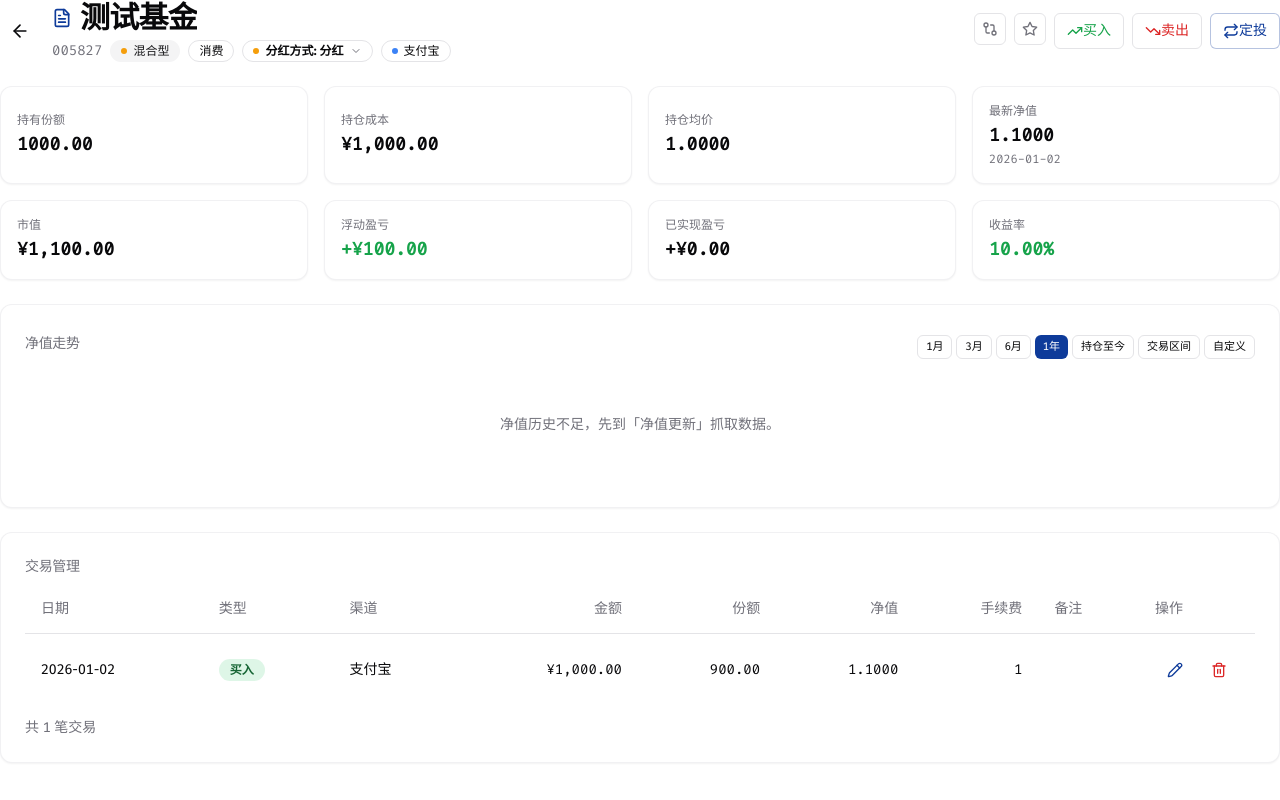
FundDetail › 删除进行中确认按钮禁用，重复点击不会发起第二次删除
Click the button titled "删除".
click(1219, 670)  # box top-left (1199, 650), bottom-right (1239, 690)
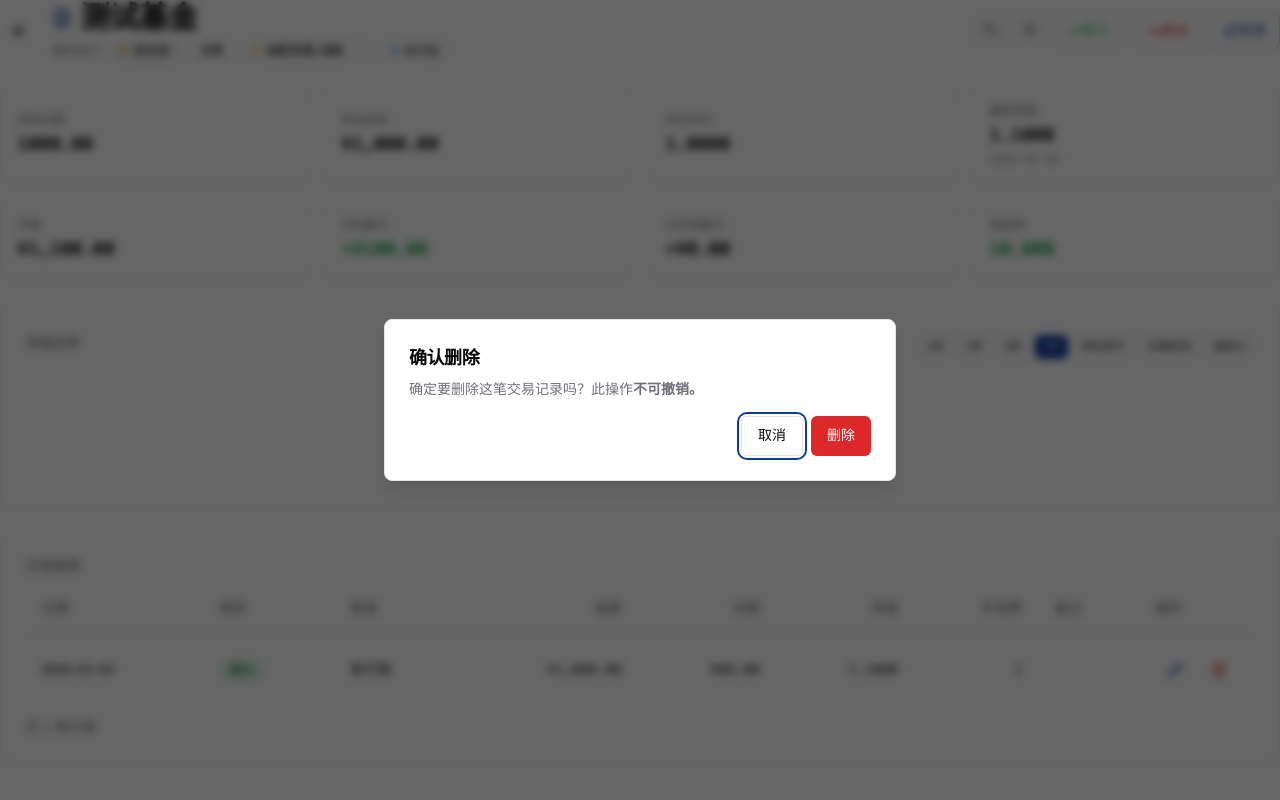
Click the button "删除".
click(841, 436)  # box top-left (811, 416), bottom-right (871, 456)
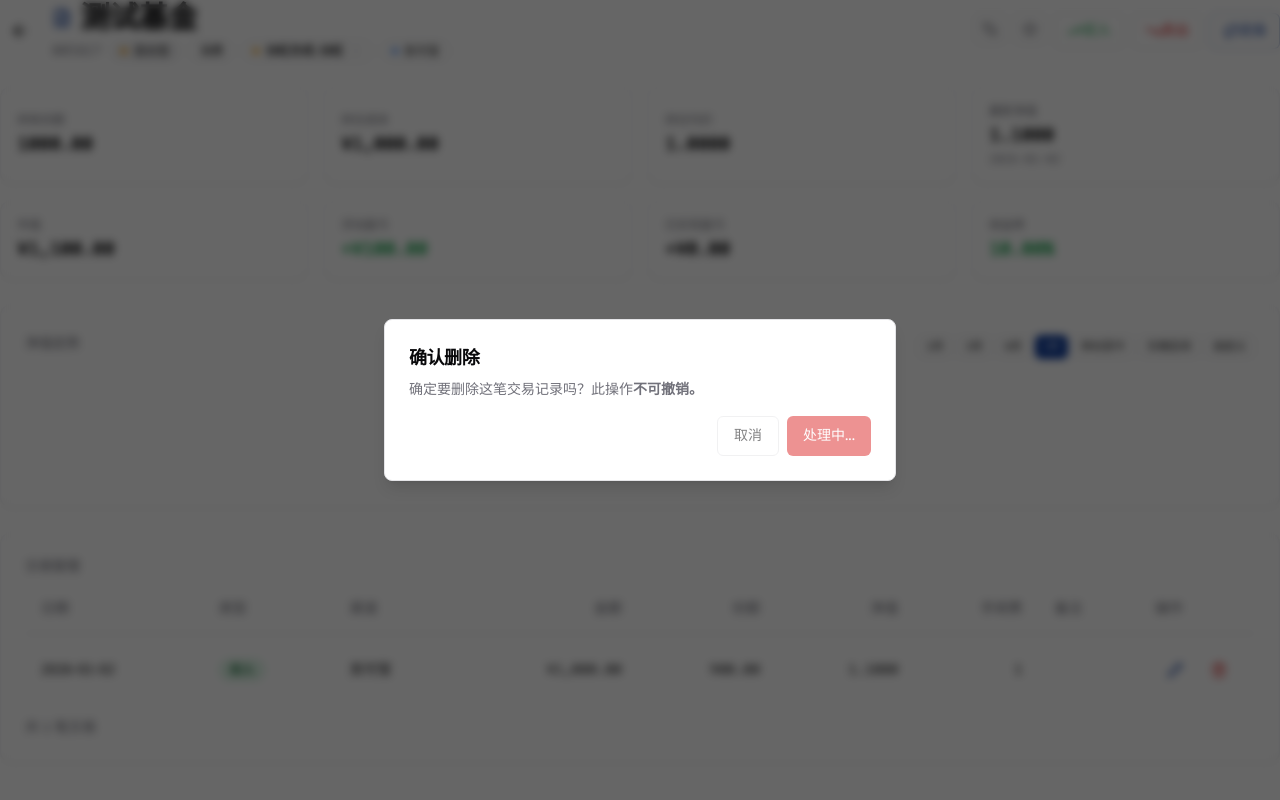
Expected: the button "处理中..." is disabled
Expected: the button "取消" is disabled, top-left (717, 416), bottom-right (779, 456)
Click the button "处理中...".
click(829, 436)  # box top-left (787, 416), bottom-right (871, 456)
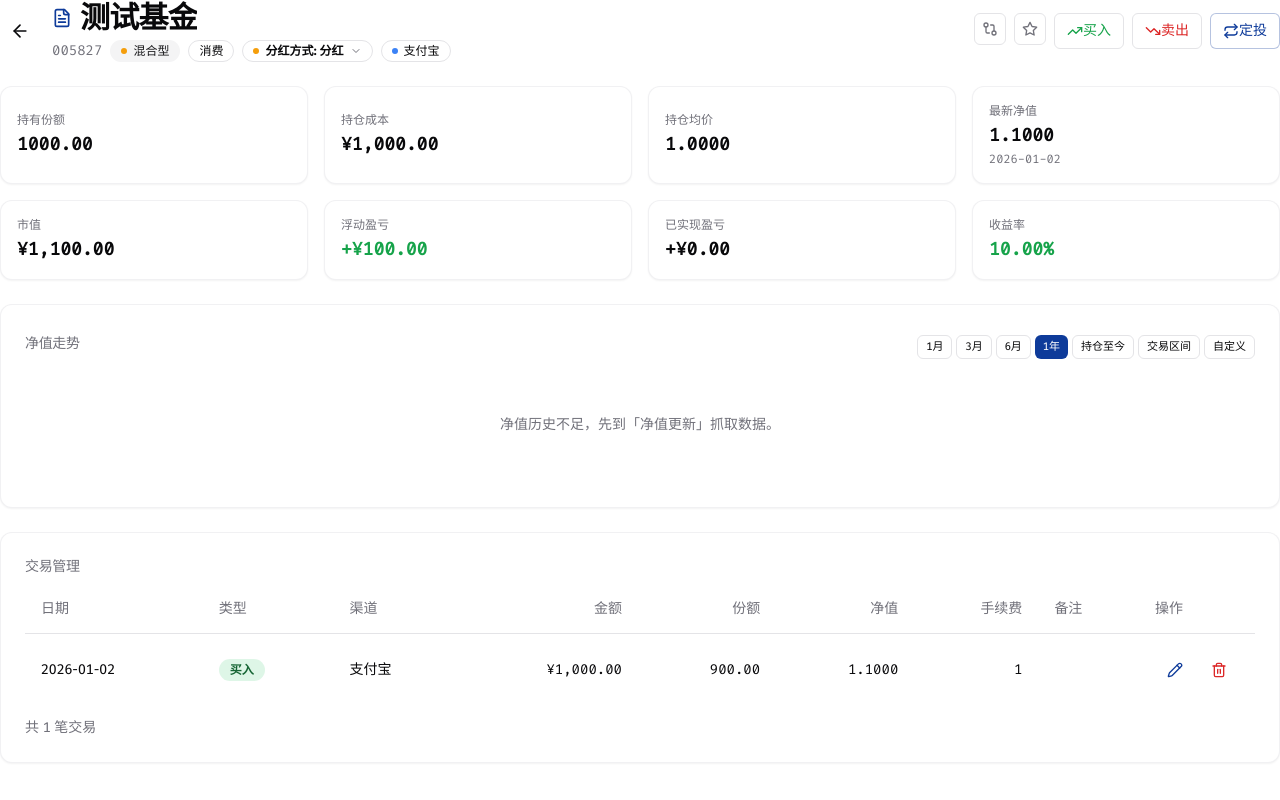
Expected: the dialog is gone
